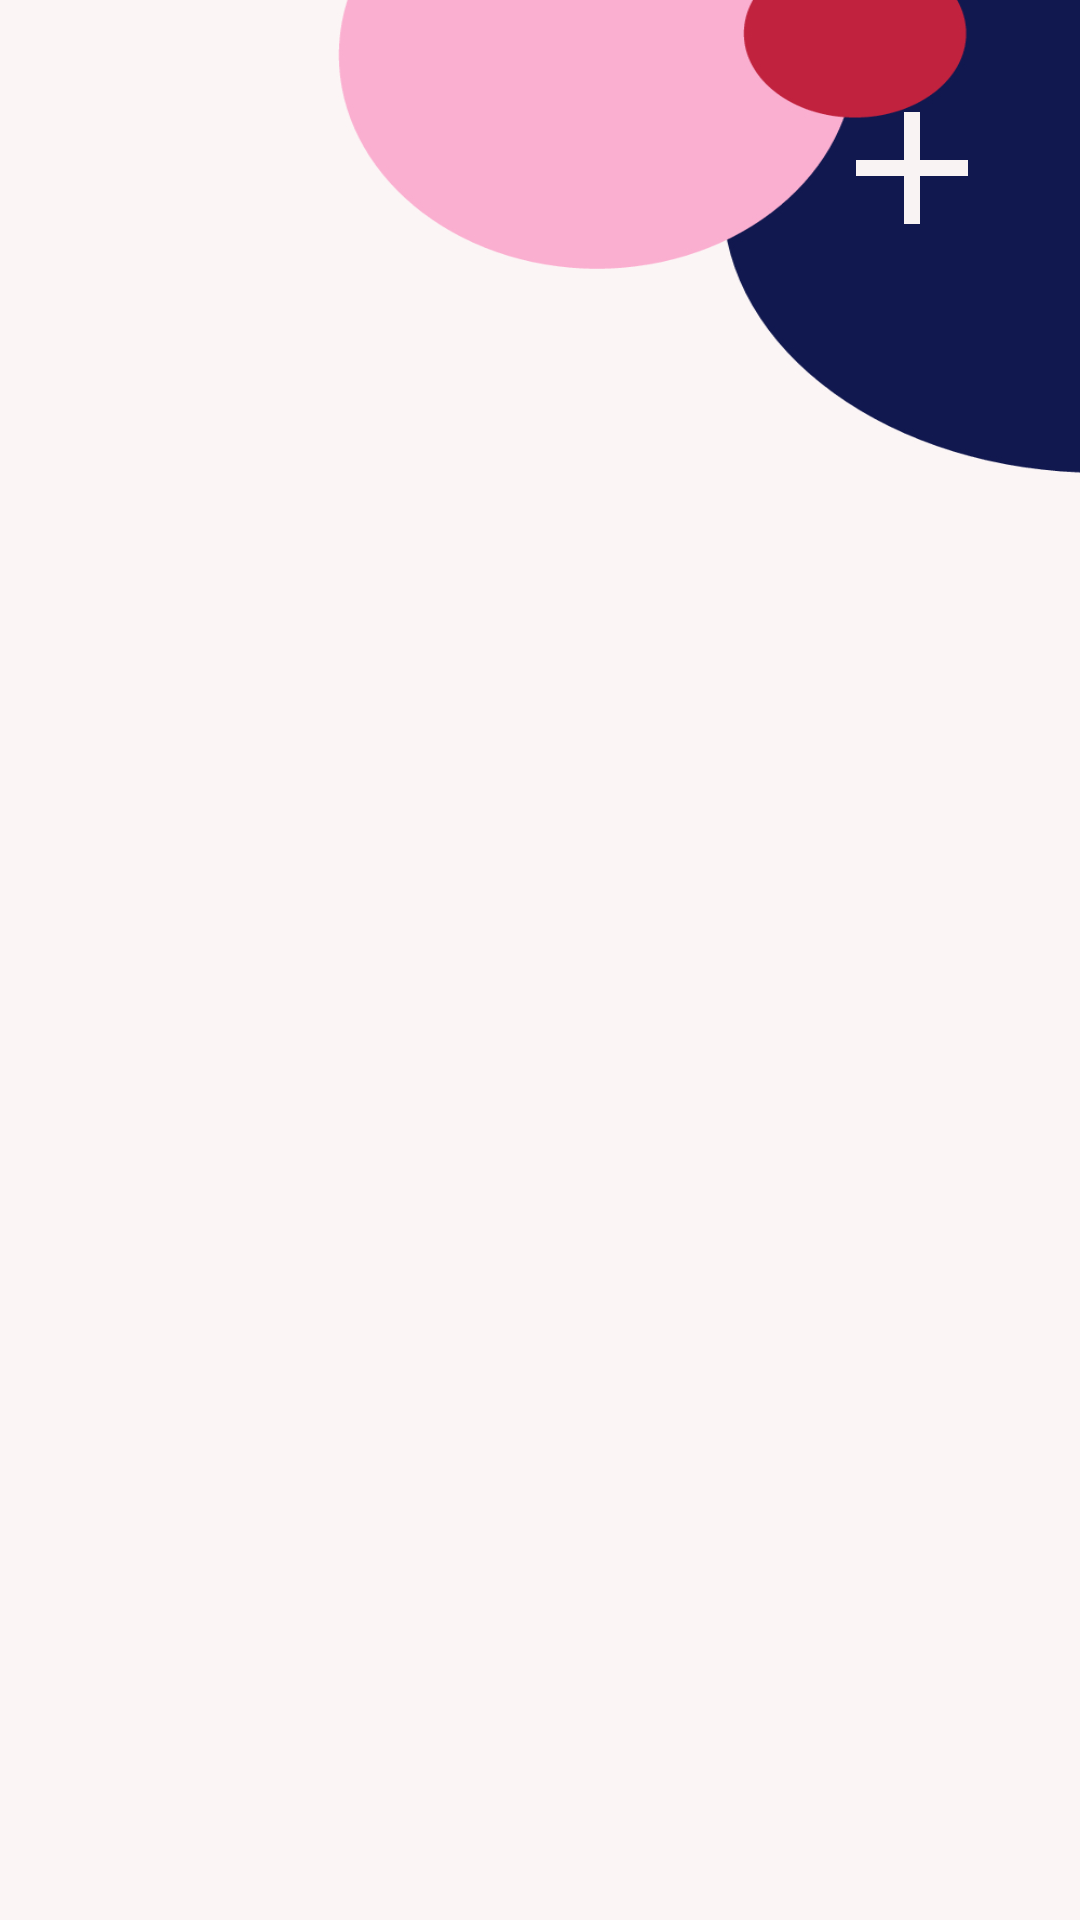

Icons on this 1080x1920 Android screen, each with the point to tap as (x=x, y=y):
add: (x=892, y=148)
